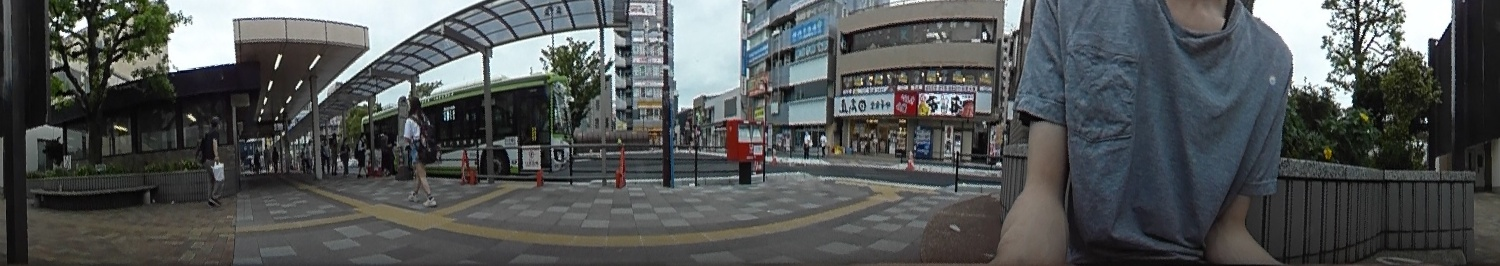difficult_person: (340, 136, 353, 174), (356, 132, 366, 178), (330, 133, 340, 176), (302, 138, 311, 173)
person: (401, 93, 438, 209), (195, 115, 229, 206)
